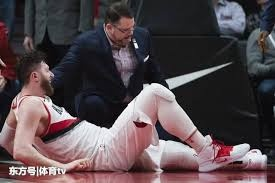falling: (1, 43, 270, 178)
